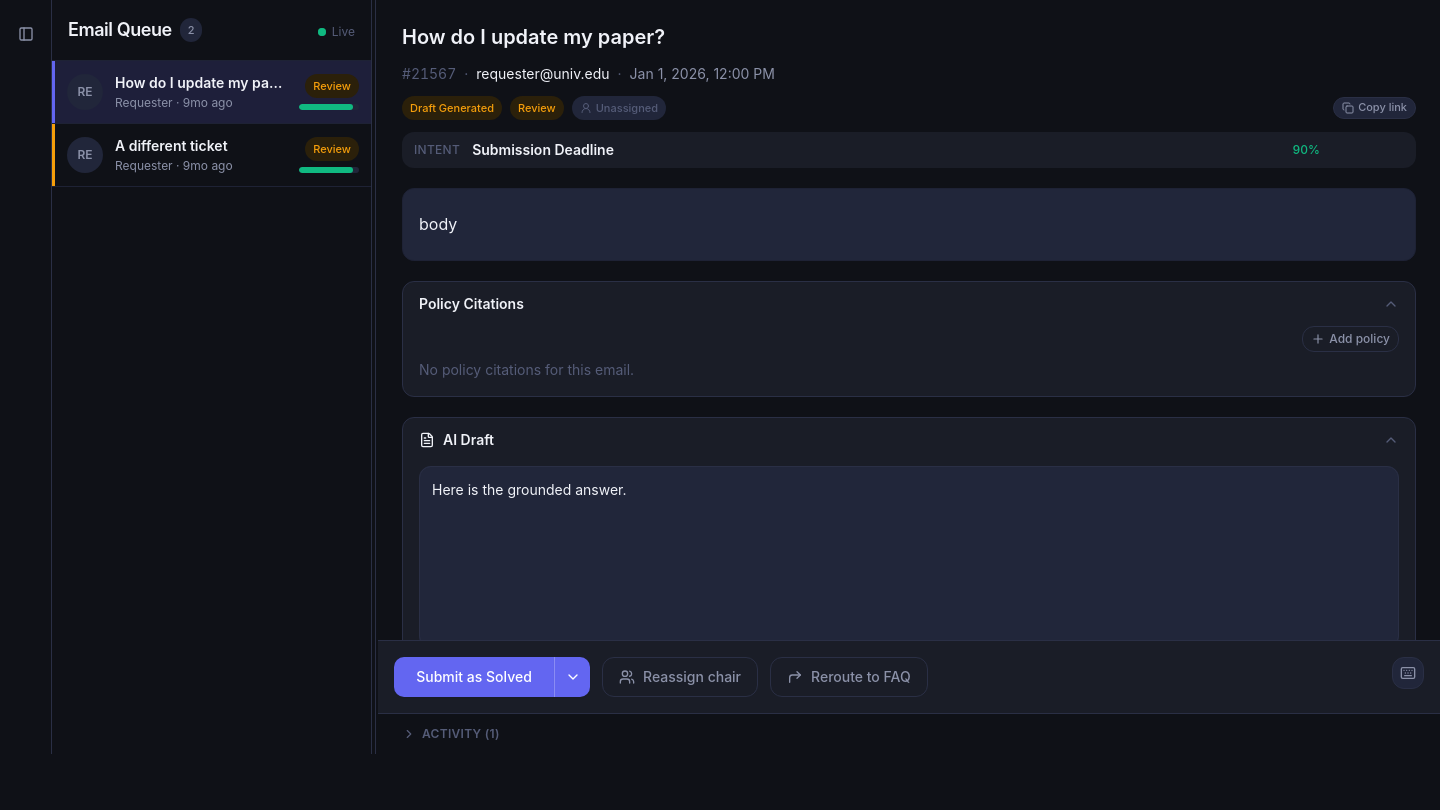
Test: TicketPage (/tickets/[ticketId]) › passes the audit trail through with EmailAuditTrailEntry shape (not coerced to AuditEntry)
The width and height of the screenshot is (1440, 810).
Expected: the element with test id "ticket-audit-trail" does not show "classified", [378,713,1439,754]
Click the button "Activity (1)" at (456, 734), box [402,726,1416,742]
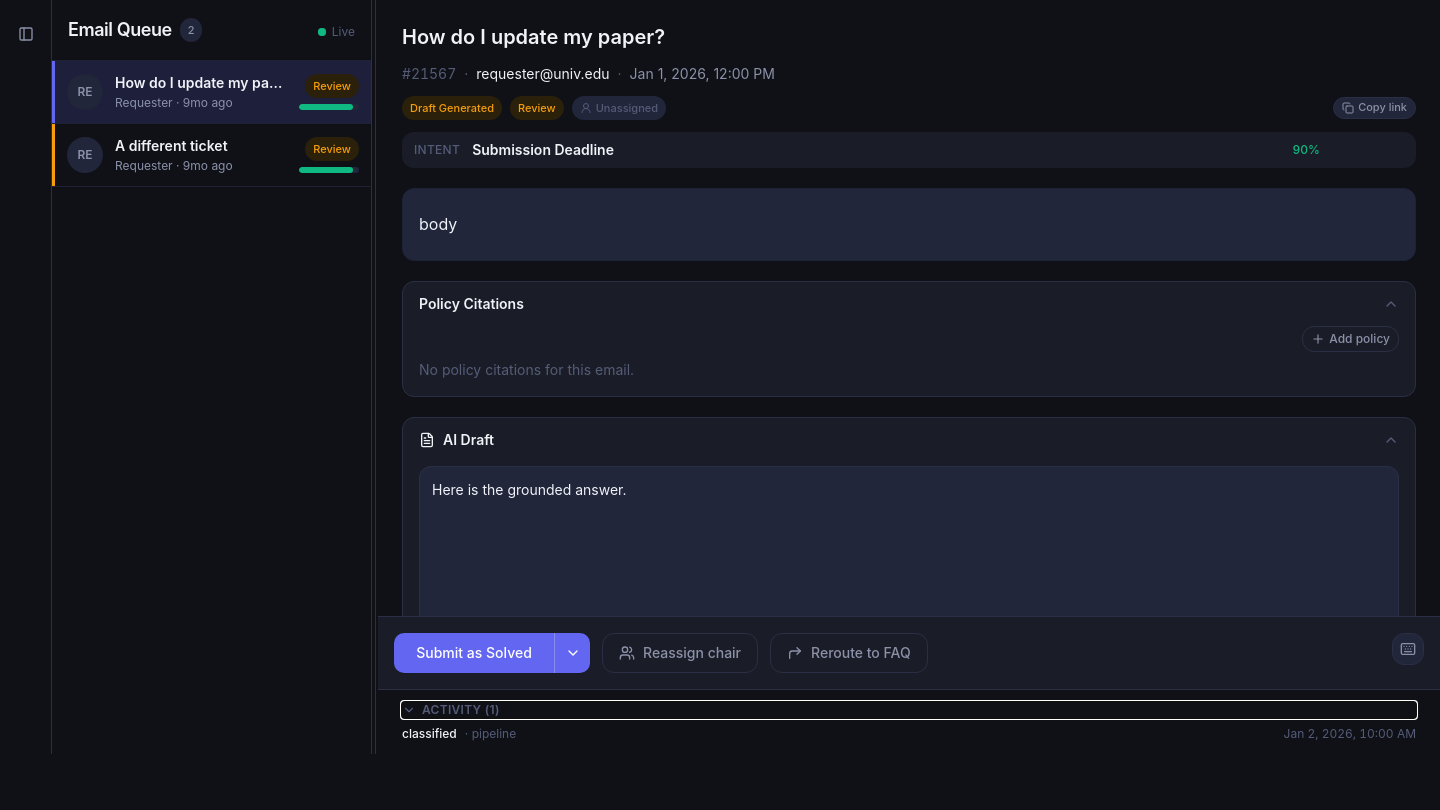
Now the element with test id "ticket-audit-trail" shows "classified", box [402,726,457,741]
Now the element with test id "ticket-audit-trail" shows "pipeline", box [472,726,516,741]
Now the element with test id "ticket-audit-trail" shows "2026", box [1284,726,1416,741]
